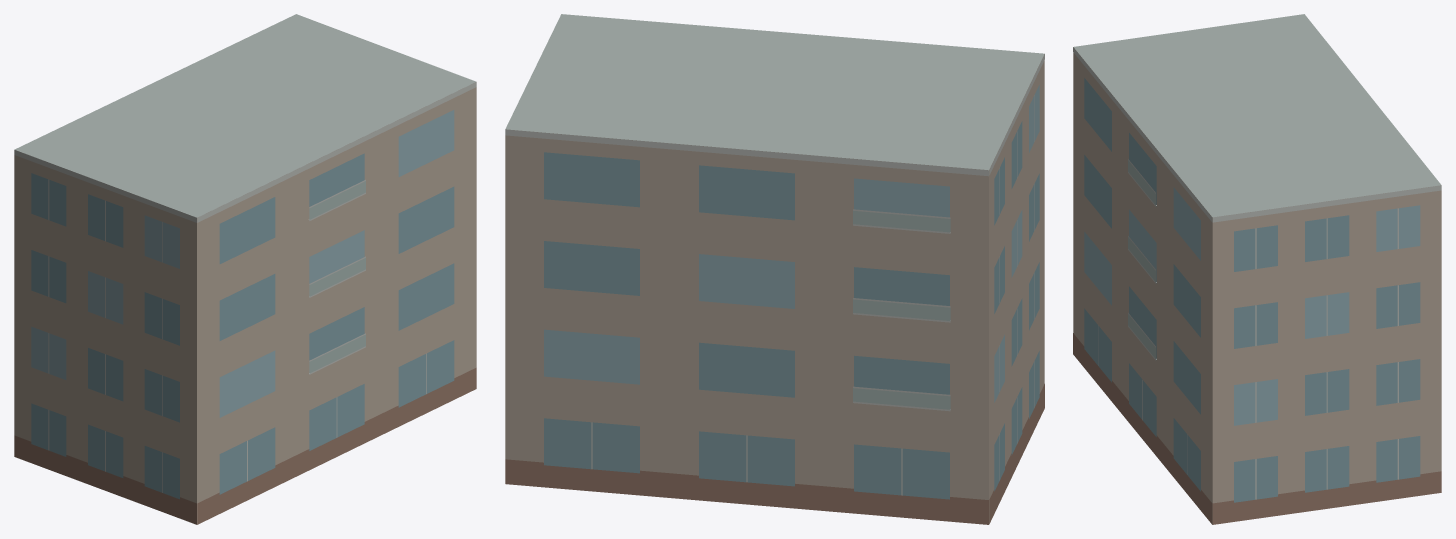
Rendered from survey-upis-32832354.glb.
The picture shows the model from 3 angles, left to right: view 1: azimuth 30°, elevation 25°; view 2: azimuth 150°, elevation 25°; view 3: azimuth 270°, elevation 25°; orthographic projection. The views are drawn at different scales.
Parts seen in each view (by area): view 1: survey-upis-32832354.tmp; view 2: survey-upis-32832354.tmp; view 3: survey-upis-32832354.tmp.
Part boxes in pixels (x1,y1,x2,y2): survey-upis-32832354.tmp: (14,14,476,524); survey-upis-32832354.tmp: (505,14,1044,524); survey-upis-32832354.tmp: (1073,14,1441,524).
Size of the model in its own units: 20.3 by 14.3 by 15.54.
